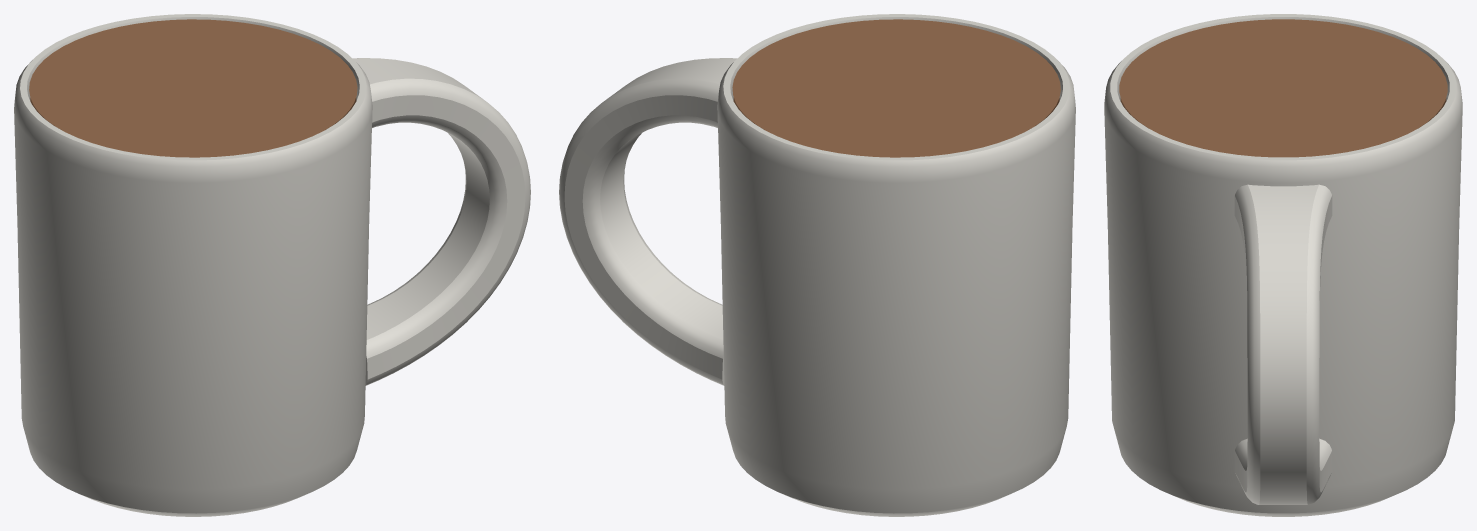
File: container_mug.glb
3 views of the same model, side by side, from view 1: azimuth 30°, elevation 25°; view 2: azimuth 150°, elevation 25°; view 3: azimuth 270°, elevation 25° (orthographic).
Visible parts, largest first — view 1: Body, Liquid, Handle; view 2: Body, Liquid, Handle; view 3: Body, Liquid, Handle.
Part boxes in pixels (x1,y1,x2,y2): Body: [14, 14, 372, 516]; Liquid: [29, 19, 357, 157]; Handle: [352, 58, 530, 385]; Body: [717, 14, 1075, 516]; Liquid: [732, 19, 1060, 157]; Handle: [559, 58, 737, 385]; Body: [1104, 14, 1462, 516]; Liquid: [1119, 19, 1447, 157]; Handle: [1234, 184, 1332, 504].
Bounding box in the file's own units: 0.1299 × 0.0952 × 0.0839.
